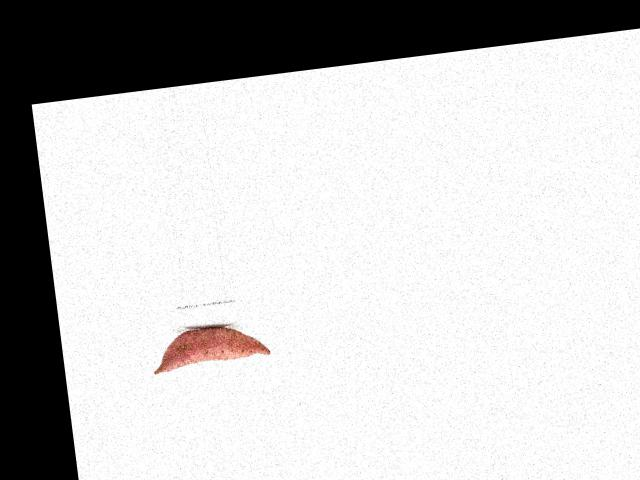sweet_potato: (148, 319, 273, 380)
